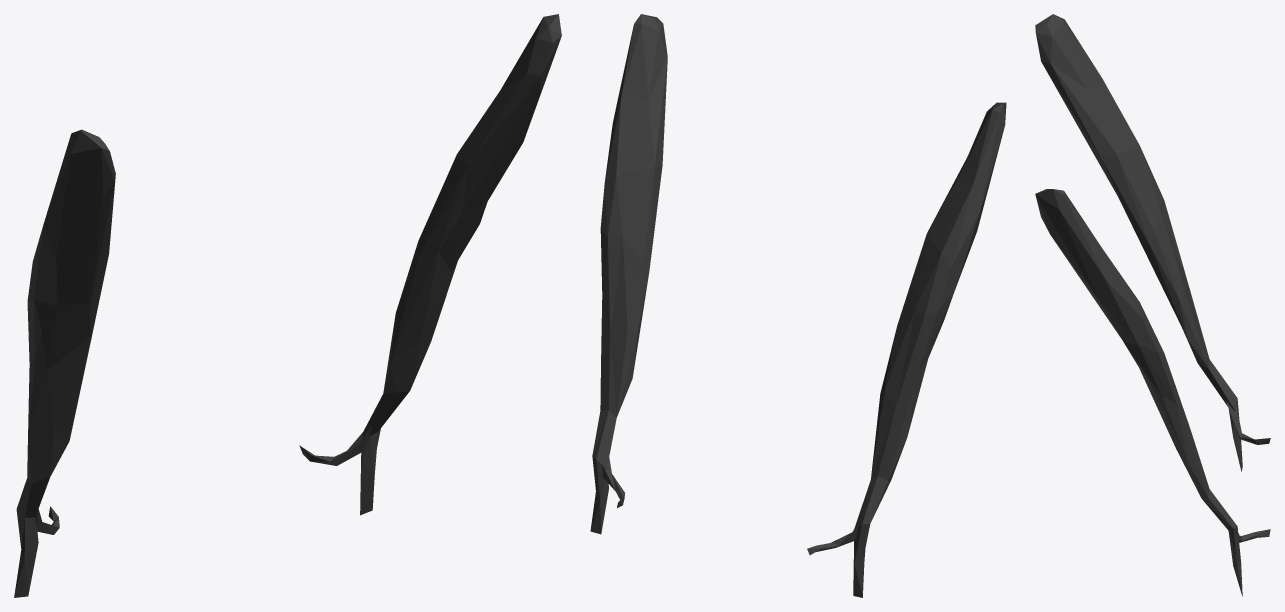
Rendered from m_tibialis_cranialis.glb.
The picture shows the model from 3 angles, left to right: view 1: azimuth 30°, elevation 25°; view 2: azimuth 150°, elevation 25°; view 3: azimuth 270°, elevation 25°; orthographic projection. The views are drawn at different scales.
Parts seen in each view (by area): view 1: m_tibialis_cranialis; view 2: m_tibialis_cranialis; view 3: m_tibialis_cranialis.
Part boxes in pixels (x1=…): m_tibialis_cranialis: x1=14, y1=14, x2=561, y2=597; m_tibialis_cranialis: x1=590, y1=14, x2=1006, y2=597; m_tibialis_cranialis: x1=1035, y1=14, x2=1270, y2=596.
Bounding box in the file's own units: 0.00612 × 0.00688 × 0.0034.
Materials: 1 (1 with a texture image).
